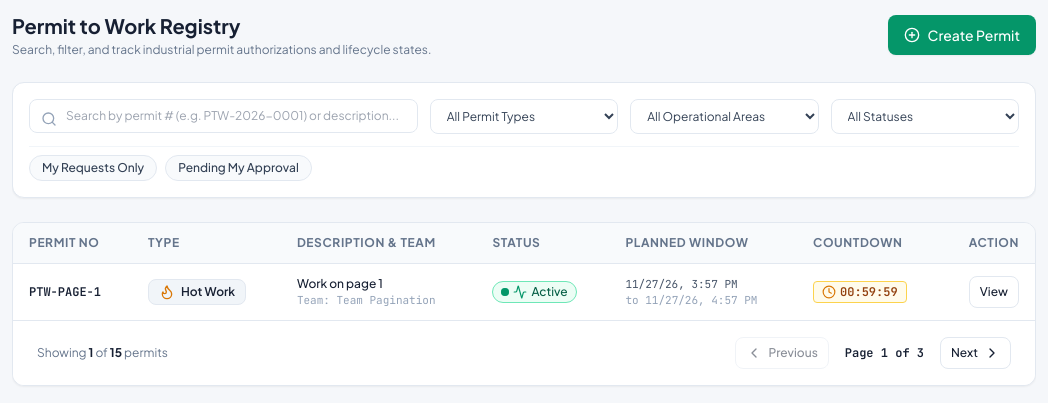
PermitsListPage Pagination Tests (Bug 3) › navigates through pages 1 -> 2 -> 3, disables next on page 3, and resets on filter change
Expected: the text "PTW-PAGE-1" is shown, [13,264,132,320]
Expected: the button "Previous" is disabled, [735,337,829,369]
Click the button "Next": (976, 353) [940,337,1011,369]
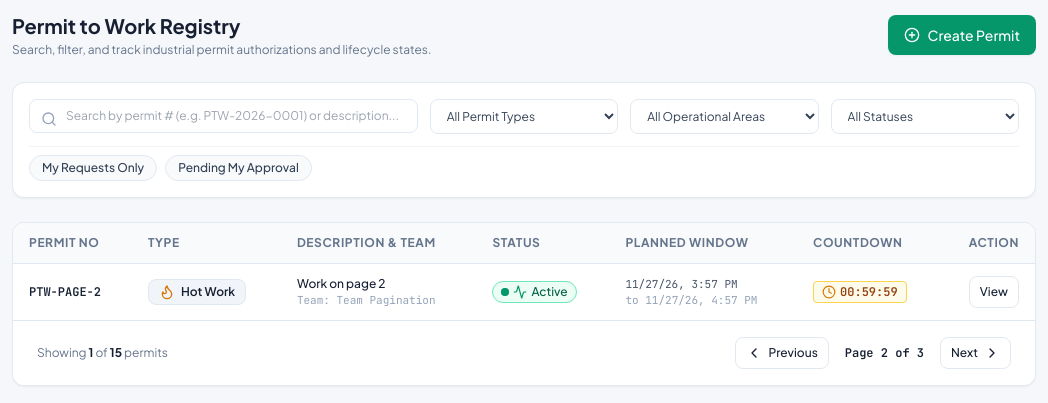
Result: the text "PTW-PAGE-2" is shown at [13,264,132,320]
Result: the text "Page 2 of 3" is shown at [845,345,924,361]
Result: the button "Previous" is enabled at [735,337,829,369]
Click the button "Next": (976, 353) [940,337,1011,369]
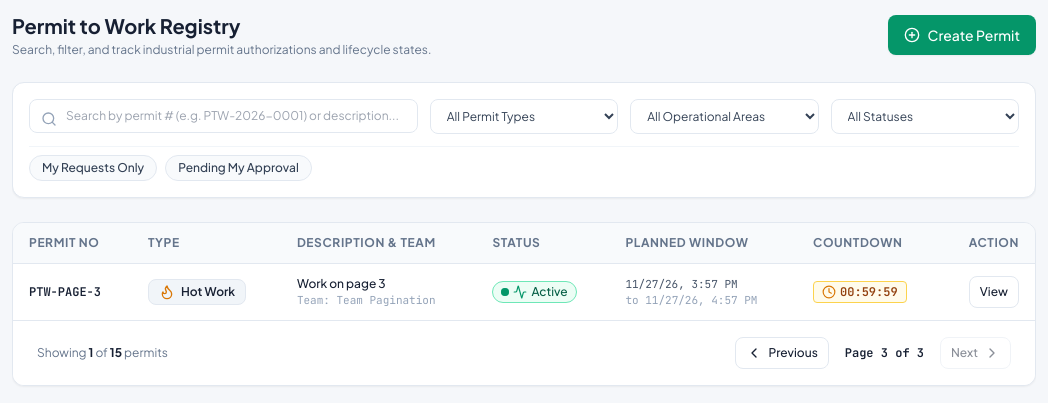
Result: the text "PTW-PAGE-3" is shown at [13,264,132,320]
Result: the text "Page 3 of 3" is shown at [845,345,924,361]
Result: the button "Next" is disabled at [940,337,1011,369]
In the field with placeholder "Search by permit # (e.g. PTW-2026-0001) or description...": (223, 116) [29,99,418,133], type "welding"
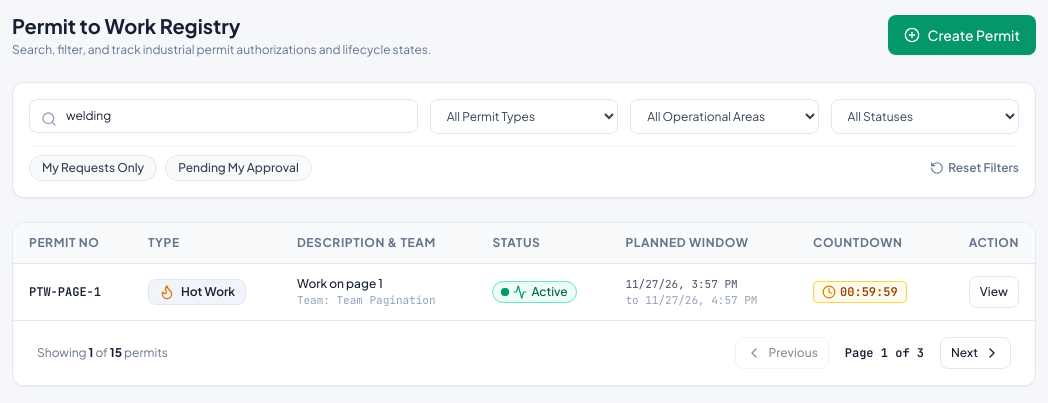
Result: the text "Page 1 of 3" is shown at [845,345,924,361]
